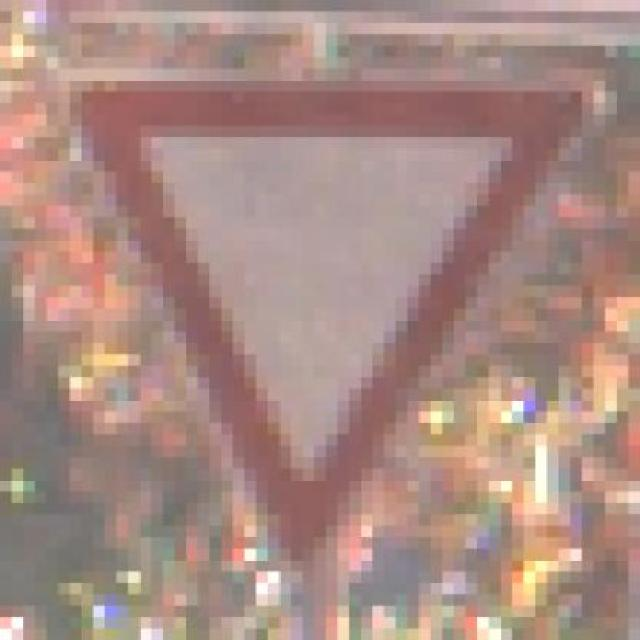Give Way: (58, 57, 570, 606)
